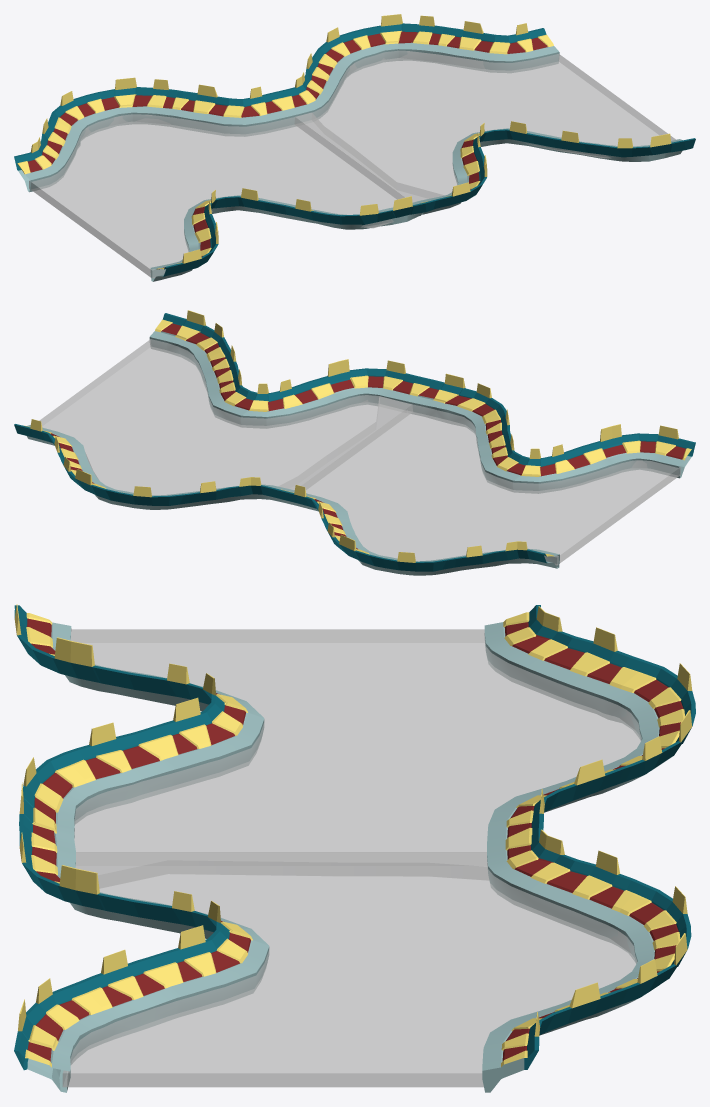
The model's file is ZIGZAG.FBX.
3 renders of one model, top to bottom at view 1: azimuth 30°, elevation 25°; view 2: azimuth 150°, elevation 25°; view 3: azimuth 270°, elevation 25°, orthographic. The views are drawn at different scales.
Visible parts, largest first — view 1: Box010, Box009, Rectaaaa035, Rectaaaa033, Rectaaaa036, Rectaaaa032; view 2: Box010, Box009, Rectaaaa036, Rectaaaa032, Rectaaaa035, Rectaaaa033; view 3: Box010, Box009, Rectaaaa032, Rectaaaa036, Rectaaaa033, Rectaaaa035.
Boxes of the visible parts, x1,y1,x2,y2 form: Box010: [29, 113, 443, 278]; Box009: [295, 50, 675, 202]; Rectaaaa035: [14, 77, 294, 192]; Rectaaaa033: [278, 14, 559, 126]; Rectaaaa036: [150, 188, 435, 281]; Rectaaaa032: [420, 121, 695, 214]; Box010: [278, 396, 680, 565]; Box009: [39, 339, 412, 495]; Rectaaaa036: [406, 373, 695, 493]; Rectaaaa032: [149, 310, 422, 428]; Rectaaaa035: [277, 485, 559, 575]; Rectaaaa033: [14, 419, 293, 509]; Box010: [70, 629, 641, 888]; Box009: [62, 852, 637, 1087]; Rectaaaa032: [14, 832, 269, 1092]; Rectaaaa036: [14, 604, 264, 853]; Rectaaaa033: [482, 828, 691, 1092]; Rectaaaa035: [484, 605, 695, 848].
Bounding box in the file's own units: 245 × 16.52 × 158.
